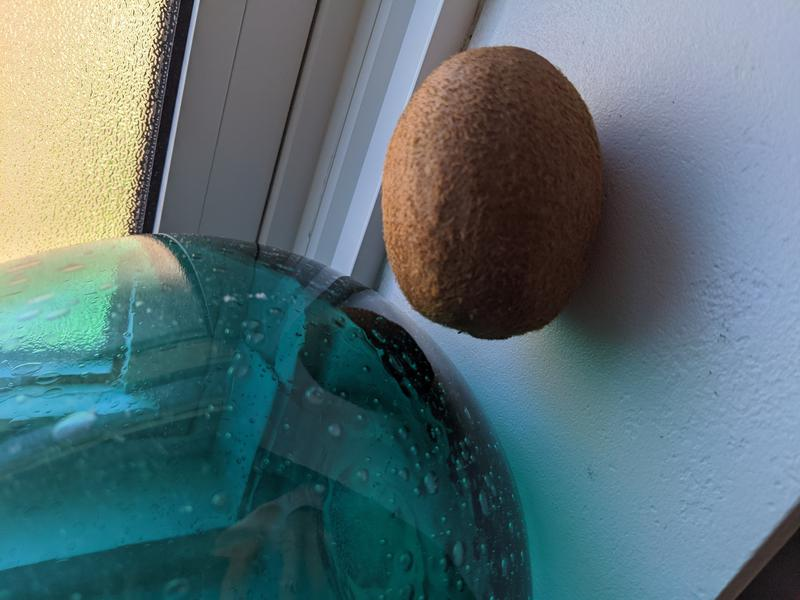kiwi: (380, 44, 607, 341)
